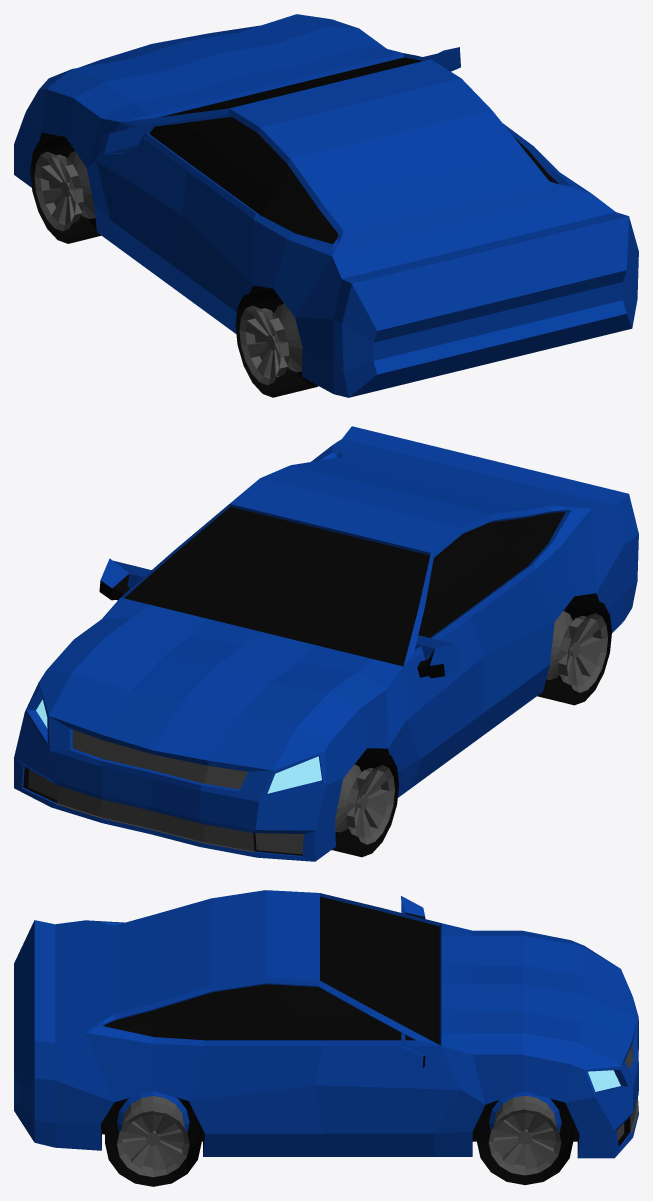
Rendered from low-poly-car.glb.
3 renders of one model, top to bottom at view 1: azimuth 30°, elevation 25°; view 2: azimuth 150°, elevation 25°; view 3: azimuth 270°, elevation 25°, orthographic. The views are drawn at different scales.
Visible parts, largest first — view 1: Sports car, Wheels.Bk.001, Wheels.Fr.001; view 2: Sports car, Wheels.Bk.001, Wheels.Fr.001; view 3: Sports car, Wheels.Bk, Wheels.Fr.
Part boxes in pixels (<box>): Sports car: <box>14,14,638,397</box>; Wheels.Bk.001: <box>235,288,318,397</box>; Wheels.Fr.001: <box>30,135,101,243</box>; Sports car: <box>14,426,638,861</box>; Wheels.Bk.001: <box>537,595,611,705</box>; Wheels.Fr.001: <box>332,748,398,857</box>; Sports car: <box>14,890,638,1158</box>; Wheels.Bk: <box>105,1091,201,1186</box>; Wheels.Fr: <box>476,1091,573,1184</box>.
Bounding box in the file's own units: 2.57 × 1.41 × 4.37.
